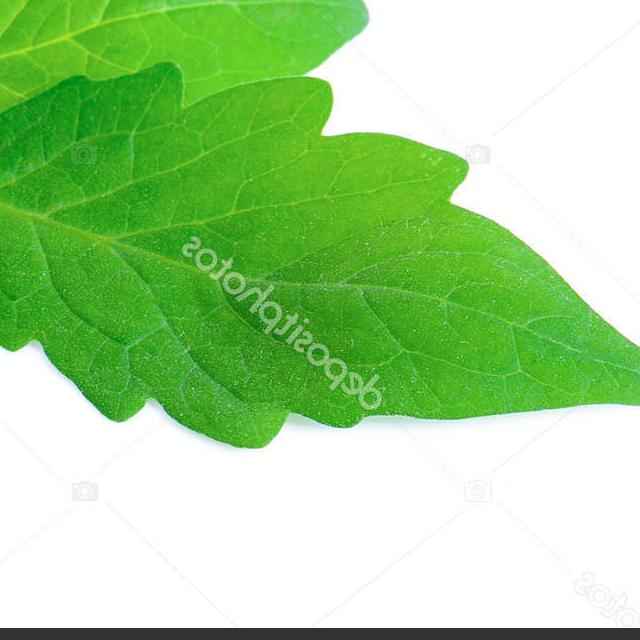Tomato leaf: (0, 69, 640, 450), (0, 0, 374, 186)
